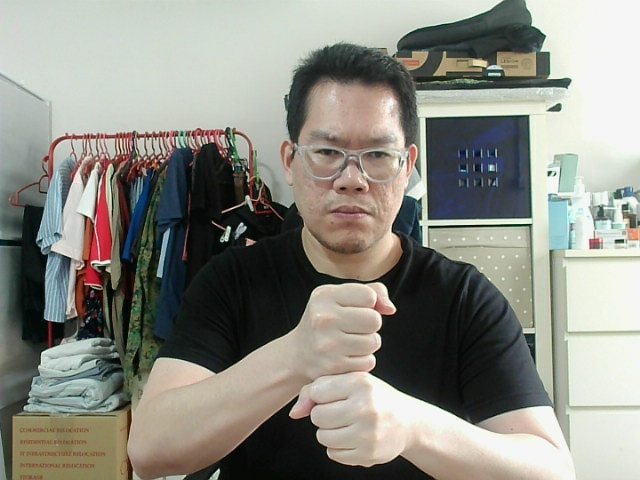get: (293, 293, 389, 364)
